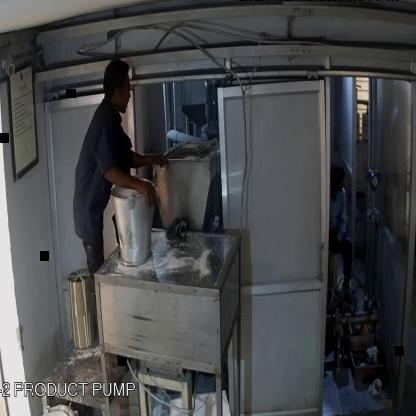no_glove: (97, 150, 156, 229)
